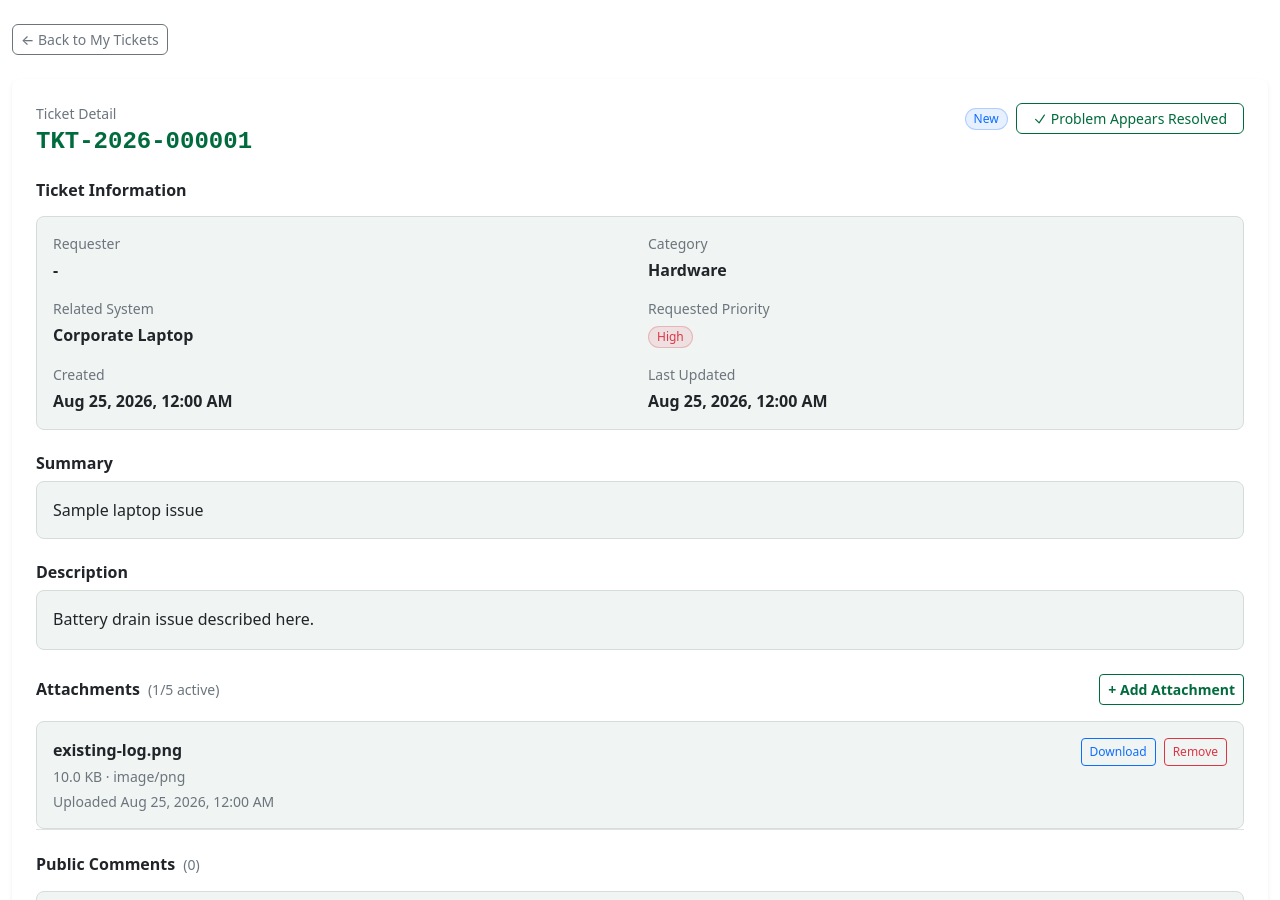
Test: Attachment Section & Upload UI Tests (Lab 2) › submits removal with valid reason and displays success alert
Expected: the text "existing-log.png" is shown, [53,739,182,761]
Click the button "Remove". click: (1195, 752)
box: [1164,738,1227,766]
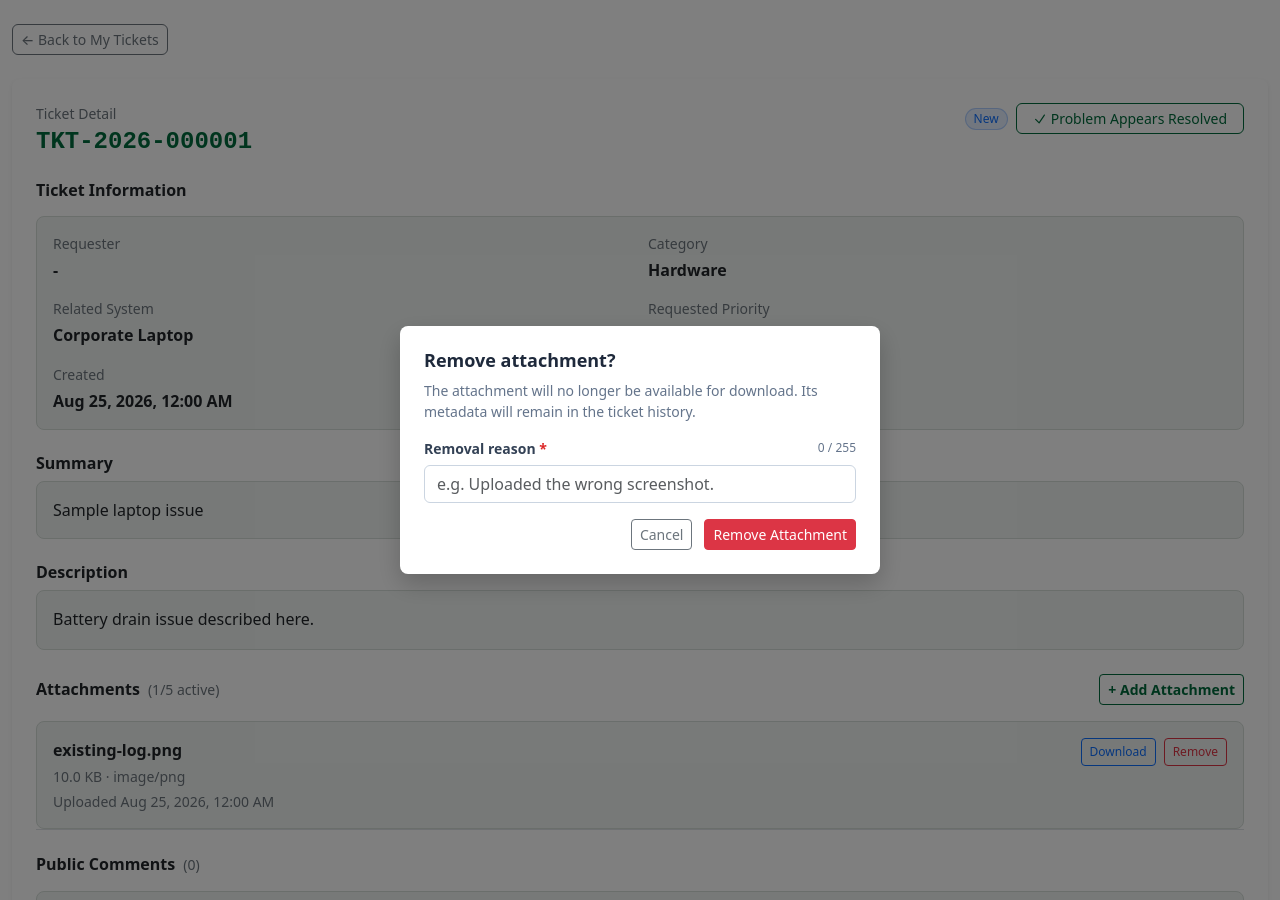
Type "Uploaded wrong screenshot." into the field with placeholder "e.g. Uploaded the wrong screenshot.". click: (640, 484)
box: [424,465,856,503]
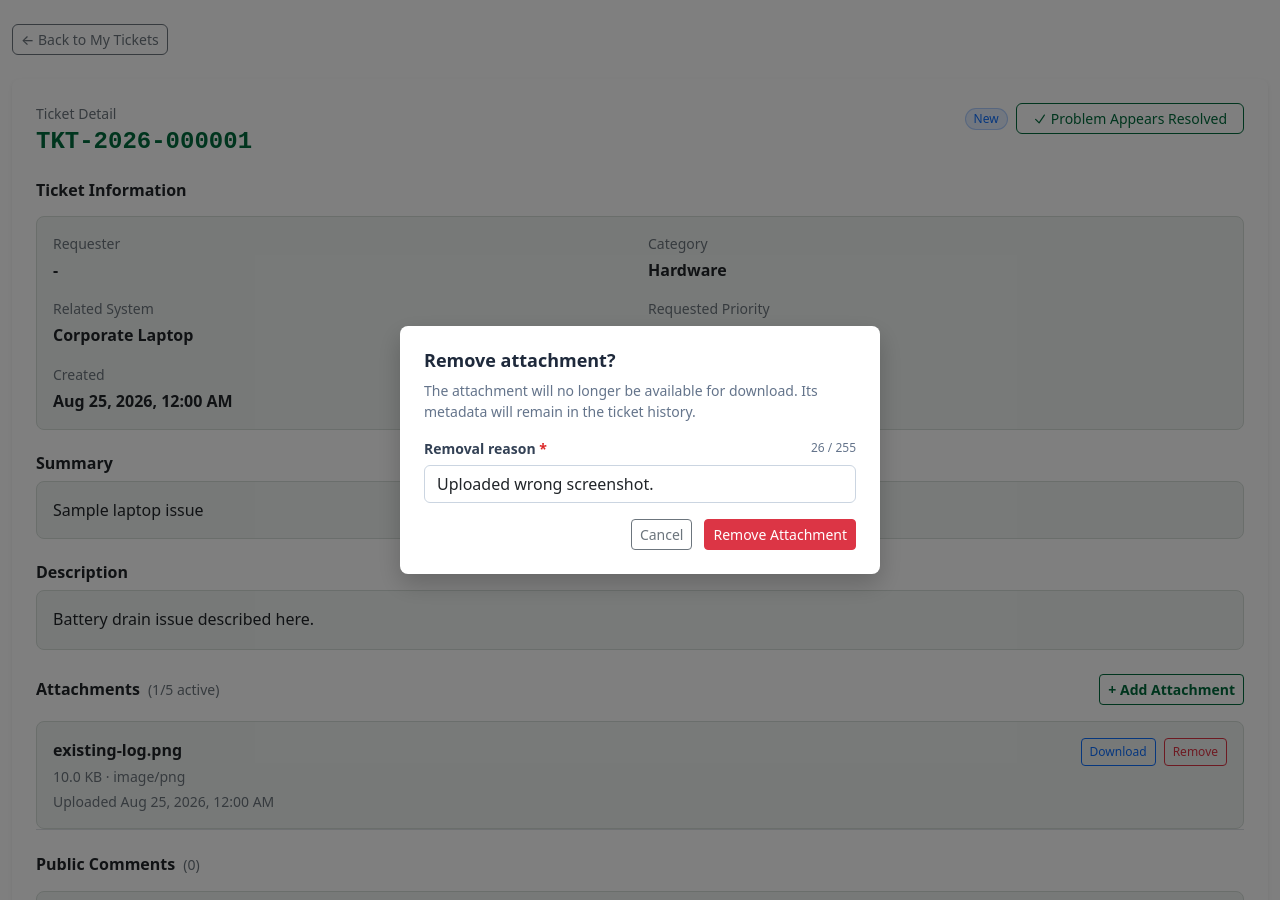
Click the button "Remove Attachment". click: (780, 534)
box: [704,519,856,550]
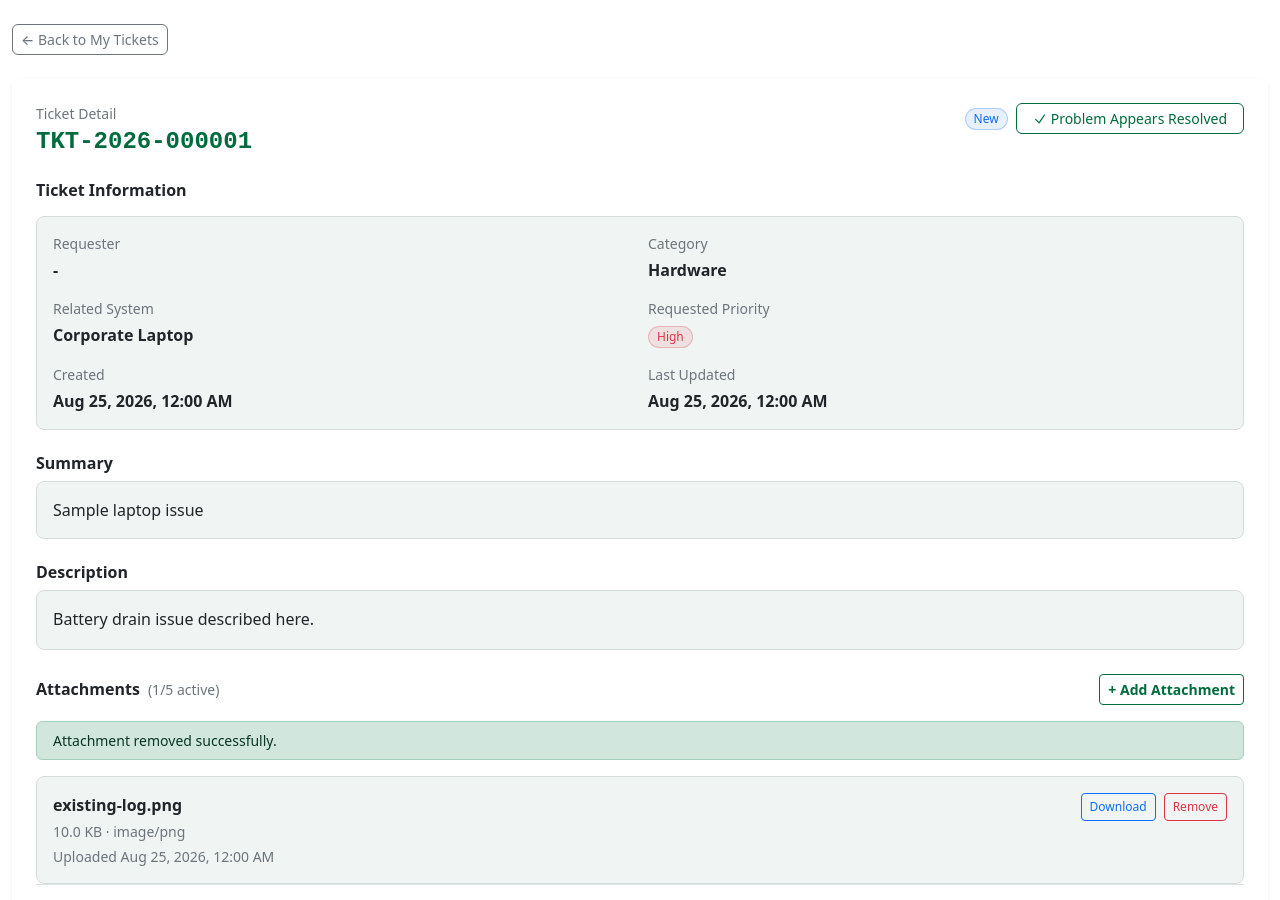
Now the text "Attachment removed successfully." is shown, box [36,721,1244,760]
